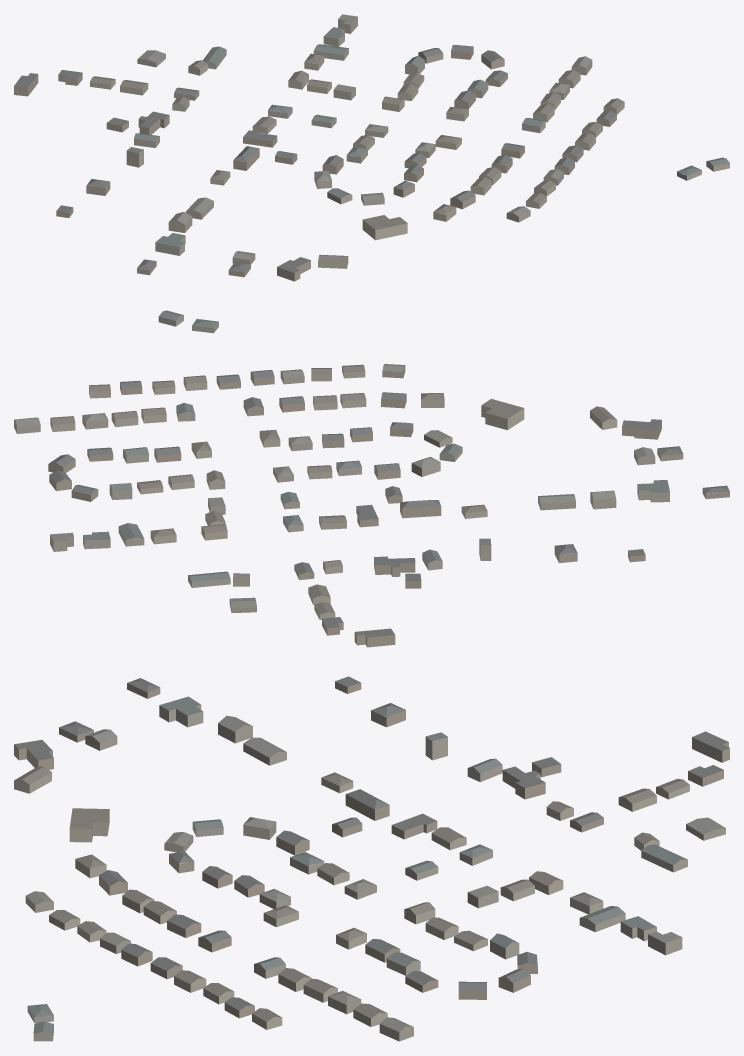
The model's file is 99eaf7f3ec77-chunk-1202_11846.glb.
3 renders of one model, top to bottom at view 1: azimuth 30°, elevation 25°; view 2: azimuth 150°, elevation 25°; view 3: azimuth 270°, elevation 25°, orthographic. The views are drawn at different scales.
Parts seen in each view (by area): view 1: building_135464, building_159208, building_46221, building_77906, building_58575, building_64471; view 2: building_135464, building_77906, building_159208, building_58575, building_13652, building_46221, building_68270, building_7564; view 3: building_135464, building_46221, building_77906, building_58575, building_159208, building_13652, building_7564, building_8983, building_68270, building_64471, building_58463, building_70771 (+10 smaller).
Part boxes in pixels (x1=…): building_135464: x1=362, y1=215, x2=407, y2=240; building_159208: x1=277, y1=257, x2=310, y2=281; building_46221: x1=155, y1=233, x2=185, y2=255; building_77906: x1=138, y1=111, x2=169, y2=134; building_58575: x1=233, y1=146, x2=259, y2=170; building_64471: x1=243, y1=130, x2=277, y2=147; building_135464: x1=481, y1=399, x2=524, y2=430; building_77906: x1=374, y1=556, x2=415, y2=576; building_159208: x1=622, y1=419, x2=661, y2=439; building_58575: x1=400, y1=500, x2=441, y2=518; building_13652: x1=354, y1=628, x2=395, y2=647; building_46221: x1=637, y1=480, x2=669, y2=502; building_68270: x1=188, y1=571, x2=230, y2=587; building_7564: x1=538, y1=494, x2=575, y2=510; building_135464: x1=69, y1=808, x2=109, y2=842; building_46221: x1=159, y1=696, x2=203, y2=727; building_77906: x1=502, y1=766, x2=545, y2=799; building_58575: x1=345, y1=789, x2=389, y2=820; building_159208: x1=14, y1=740, x2=53, y2=769; building_13652: x1=692, y1=731, x2=729, y2=762; building_7564: x1=243, y1=737, x2=286, y2=765; building_8983: x1=579, y1=906, x2=625, y2=932; building_68270: x1=641, y1=844, x2=687, y2=872; building_64471: x1=391, y1=813, x2=437, y2=839; building_58463: x1=218, y1=715, x2=252, y2=743; building_70771: x1=14, y1=766, x2=51, y2=793.
Size of the model in its own units: 391 by 9.71 by 330.
